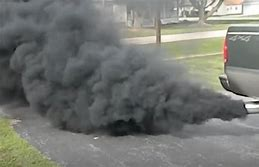smoke: (1, 1, 244, 136)
